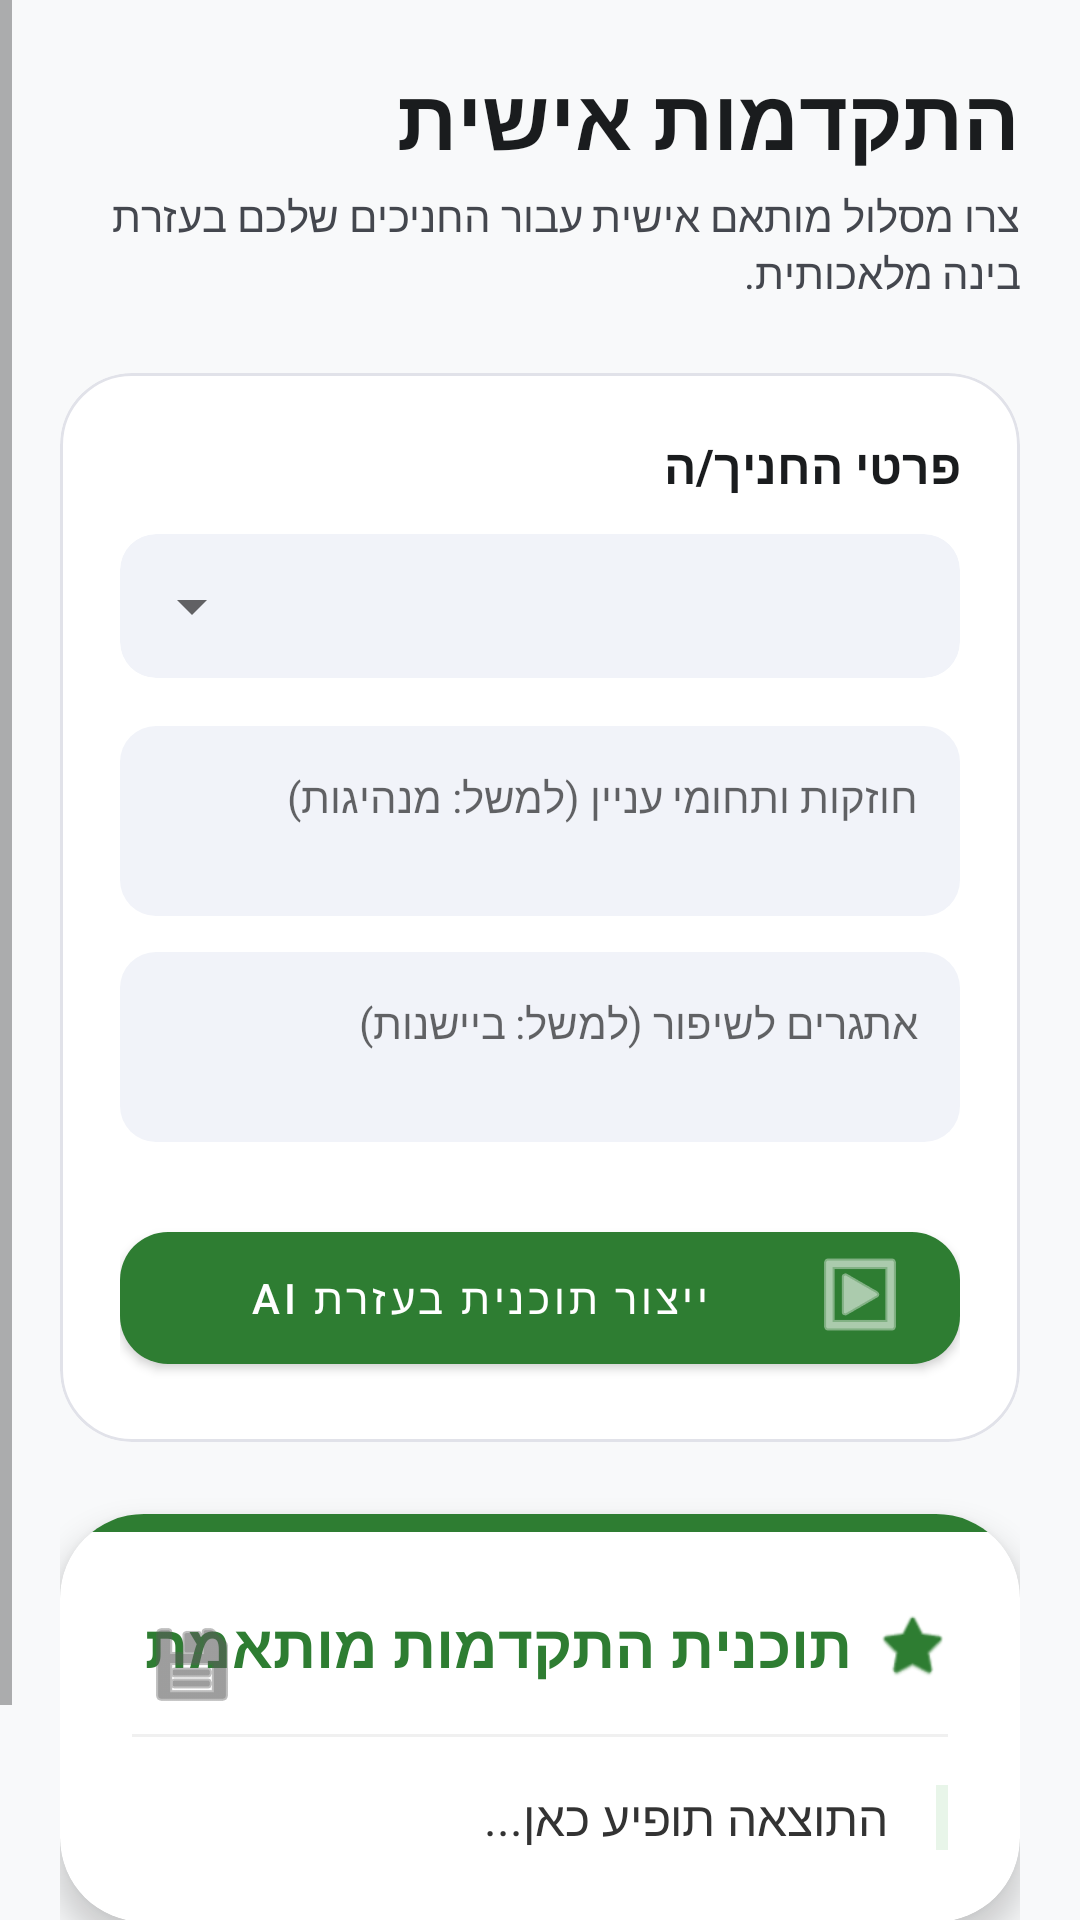

Named icons in this screenshot (1080w x 1920h) and their bounding boxes, bbox=[x1, y1, x2, y2]:
star on: bbox=[883, 1616, 943, 1675]
